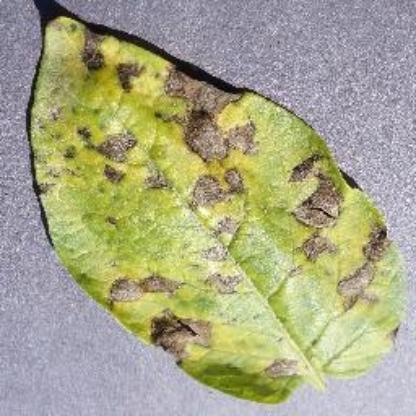Early-Blight: (29, 11, 407, 404)
